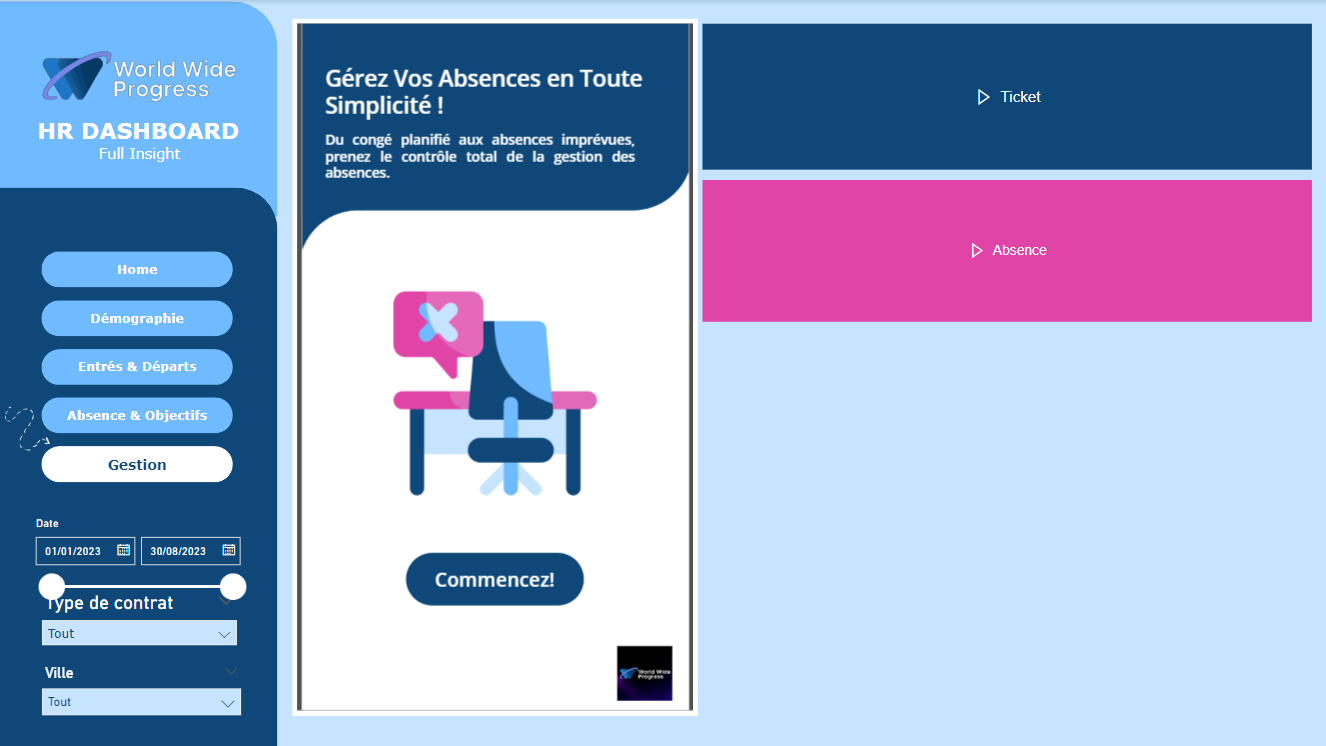

The dashboard page shown, as its layout file describes it:
{"tool":"powerbi","page":{"name":"Gestion","canvas":[1280,720],"ordinal":4},"visuals":[{"type":"textbox","box":[32.9,101.4,224.3,40],"z":0},{"type":"shape","box":[0,1.4,267.7,208.2],"z":1000},{"type":"shape","box":[0,180.5,267.7,539.5],"z":2000},{"type":"actionButton","box":[29.7,47.3,208.2,56.8],"z":3000},{"type":"textbox","box":[14.9,106.8,238,40.6],"z":4000},{"type":"textbox","box":[46,133.9,177.1,35.2],"z":5000},{"type":"image","box":[0,377.5,53.1,72.4],"z":6000},{"type":"slicer","fields":{"Values":["CONTRATS.Type de contrat"]},"box":[29.7,565.2,208.2,144.7],"z":7000},{"type":"slicer","fields":{"Values":["DATE.Date"]},"box":[21.6,493.5,224.5,109.5],"z":8000},{"type":"slicer","fields":{"Values":["AFFECTATIONS.Ville"]},"box":[29.7,635.5,212.3,74.4],"z":9000},{"type":"pageNavigator","box":[39.8,242.4,185.7,223.1],"z":10000},{"type":"PowerApps_PBI_CV_C29F1DCC_81F5_4973_94AD_0517D44CC06A","fields":{"table":["Absence des emp.Jour Travaillé complet"]},"box":[282.5,17.5,391.2,672.5],"z":11000},{"type":"FlowVisual_C29F1DCC_81F5_4973_94AD_0517D44CC06A","fields":{"table":["Absence des emp.ABSID","Absence des emp.Absences non justifiées","Absence des emp.EMPID","Absence des emp.Avertissement"]},"box":[673,18.1,598.2,150.8],"z":12000},{"type":"FlowVisual_C29F1DCC_81F5_4973_94AD_0517D44CC06A","fields":{"table":["Absence des emp.Absences non justifiées","Absence des emp.ABSID","Absence des emp.EMPID"]},"box":[673,168.8,598.2,147.1],"z":13000}]}

Visuals, with their boxes in screenshot pixels (x1, y1, x2, y2):
textbox: [left=37, top=104, right=266, bottom=144]
shape: [left=3, top=1, right=277, bottom=214]
shape: [left=3, top=184, right=277, bottom=736]
actionButton: [left=34, top=48, right=246, bottom=106]
textbox: [left=19, top=109, right=262, bottom=151]
textbox: [left=50, top=137, right=231, bottom=173]
image: [left=3, top=386, right=58, bottom=460]
slicer - CONTRATS.Type de contrat: [left=34, top=577, right=246, bottom=725]
slicer - DATE.Date: [left=26, top=504, right=255, bottom=616]
slicer - AFFECTATIONS.Ville: [left=34, top=649, right=251, bottom=725]
pageNavigator: [left=44, top=248, right=234, bottom=476]
PowerApps_PBI_CV_C29F1DCC_81F5_4973_94AD_0517D44CC06A - Absence des emp.Jour Travaillé complet: [left=292, top=18, right=692, bottom=705]
FlowVisual_C29F1DCC_81F5_4973_94AD_0517D44CC06A - Absence des emp.ABSID x Absence des emp.Absences non justifiées: [left=691, top=18, right=1302, bottom=173]
FlowVisual_C29F1DCC_81F5_4973_94AD_0517D44CC06A - Absence des emp.Absences non justifiées x Absence des emp.ABSID: [left=691, top=172, right=1302, bottom=323]
